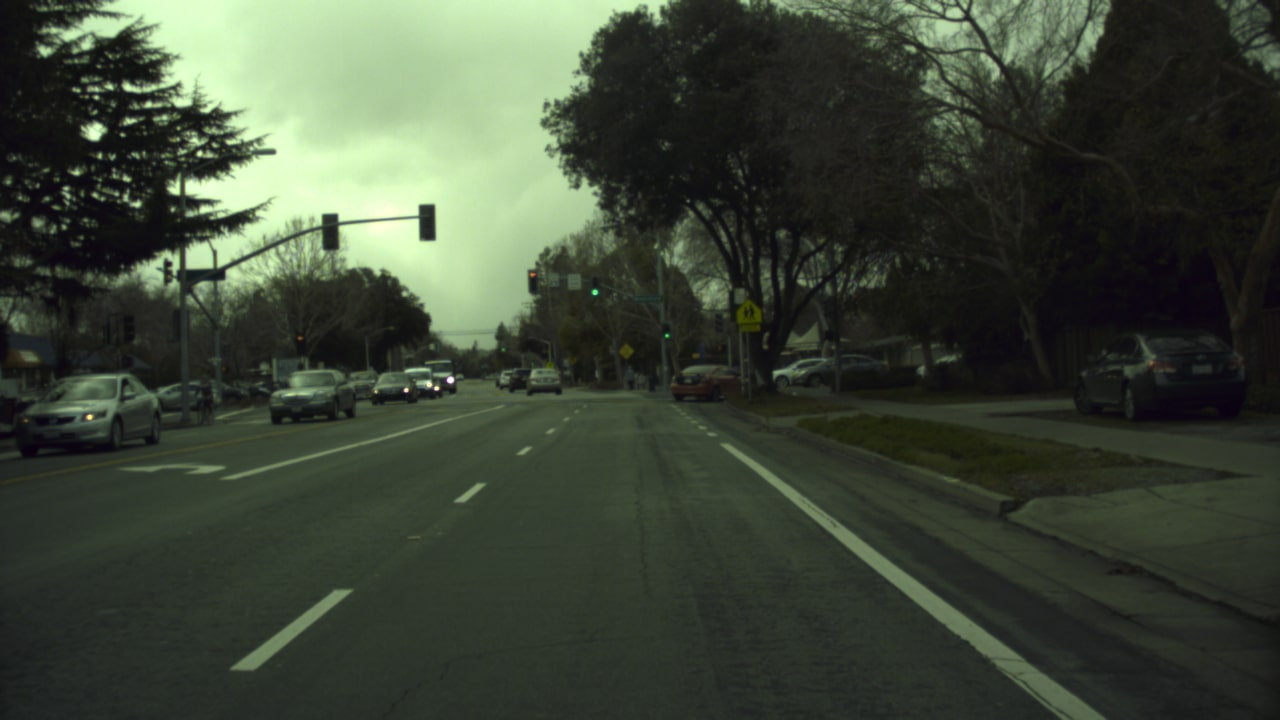signal: (660, 328, 675, 345), (525, 268, 536, 291), (589, 285, 603, 303), (295, 332, 304, 351)
